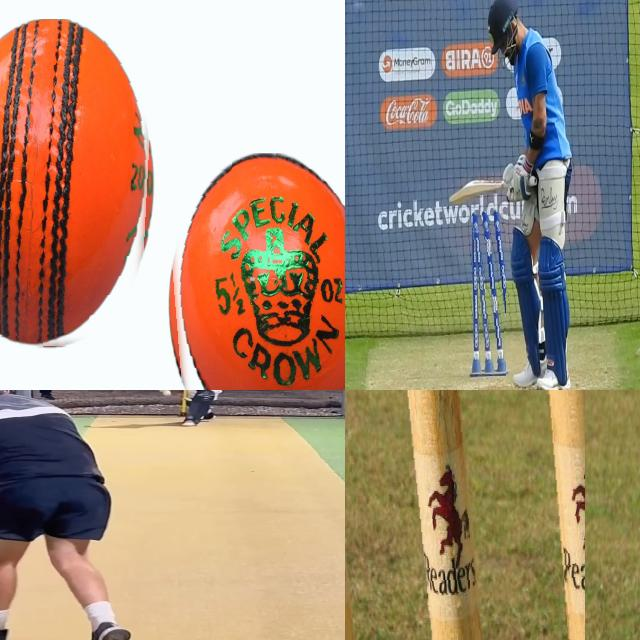Cricket ball: (0, 19, 155, 349), (162, 153, 345, 390), (162, 390, 172, 396)
Stumps: (345, 390, 585, 640), (471, 209, 506, 376)
